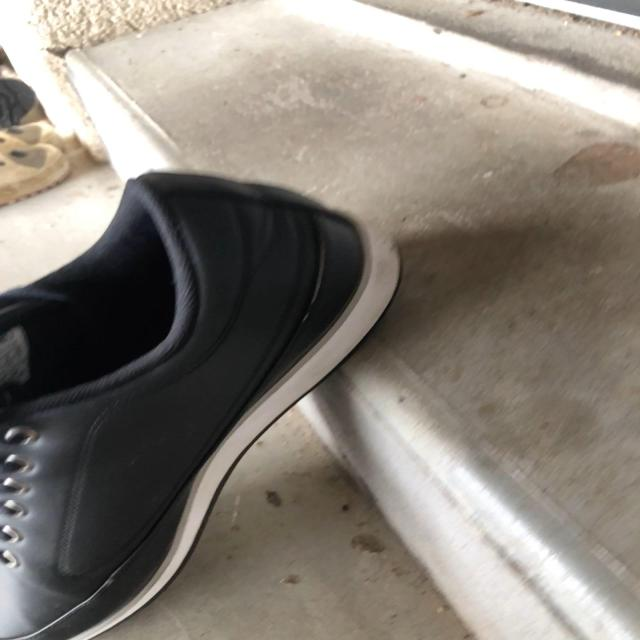shoe: (0, 171, 388, 640)
